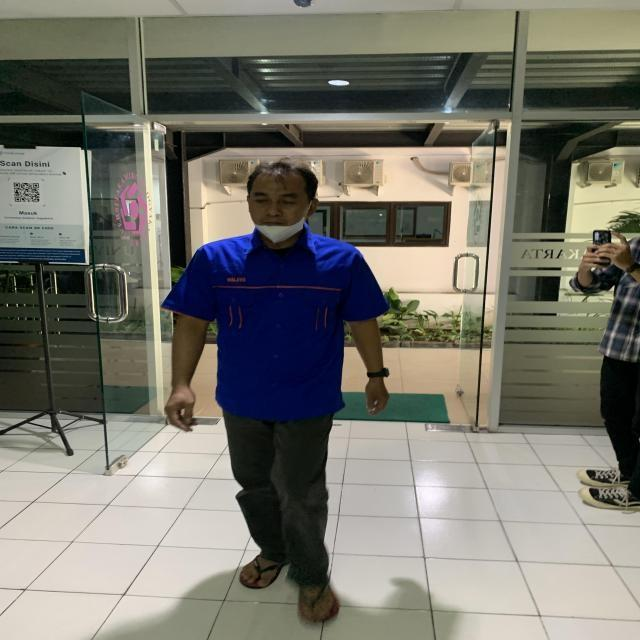hairnet: (243, 157, 318, 240)
